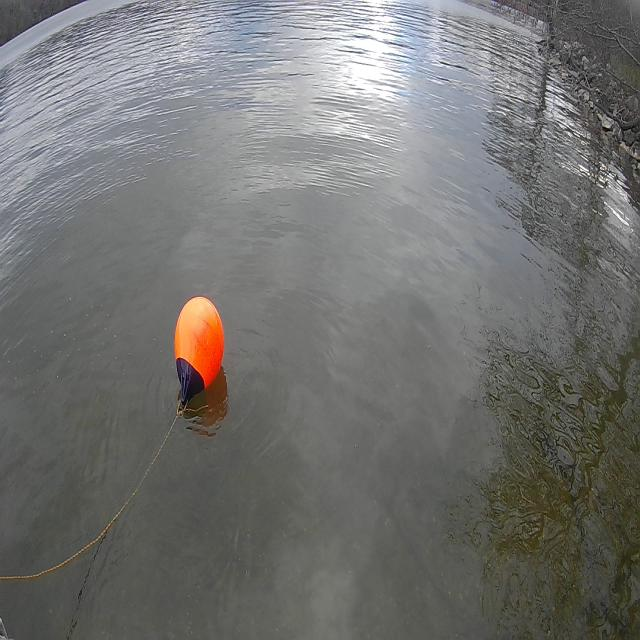Buoy: (172, 283, 228, 421)
